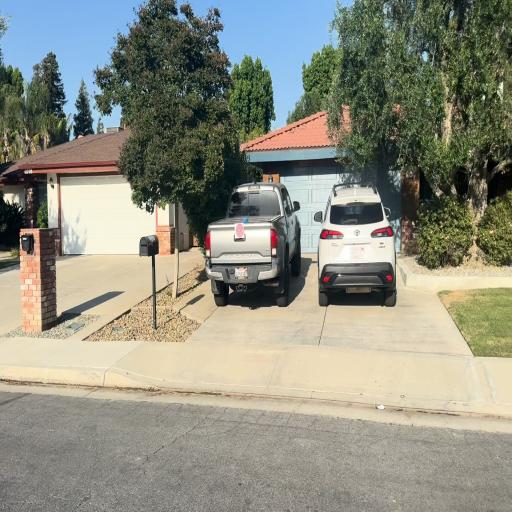bullseye: (236, 223, 244, 238)
